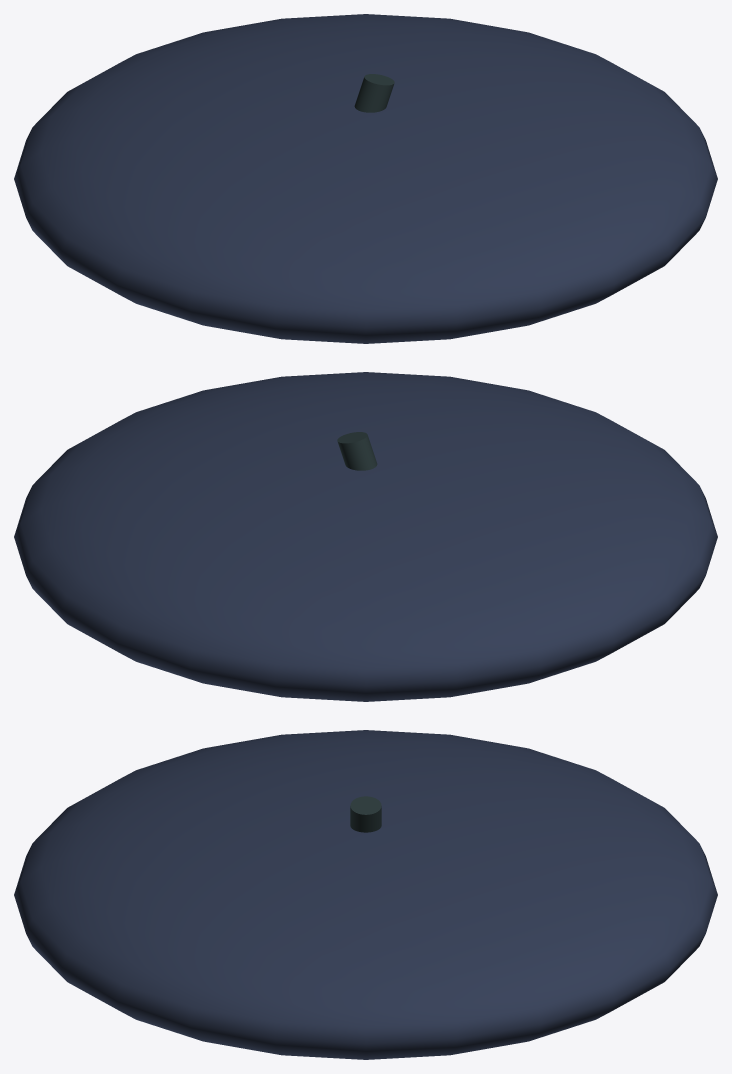
The model's file is wp-beret.glb.
3 views of the same model, one above another, from view 1: azimuth 30°, elevation 25°; view 2: azimuth 150°, elevation 25°; view 3: azimuth 270°, elevation 25° (orthographic).
Parts seen in each view (by area): view 1: wp-beret; view 2: wp-beret; view 3: wp-beret.
Boxes of the visible parts, x1,y1,x2,y2 form: wp-beret: [14, 14, 717, 343]; wp-beret: [14, 372, 717, 701]; wp-beret: [14, 730, 717, 1059].
Size of the model in its own units: 0.28 by 0.075 by 0.28.
